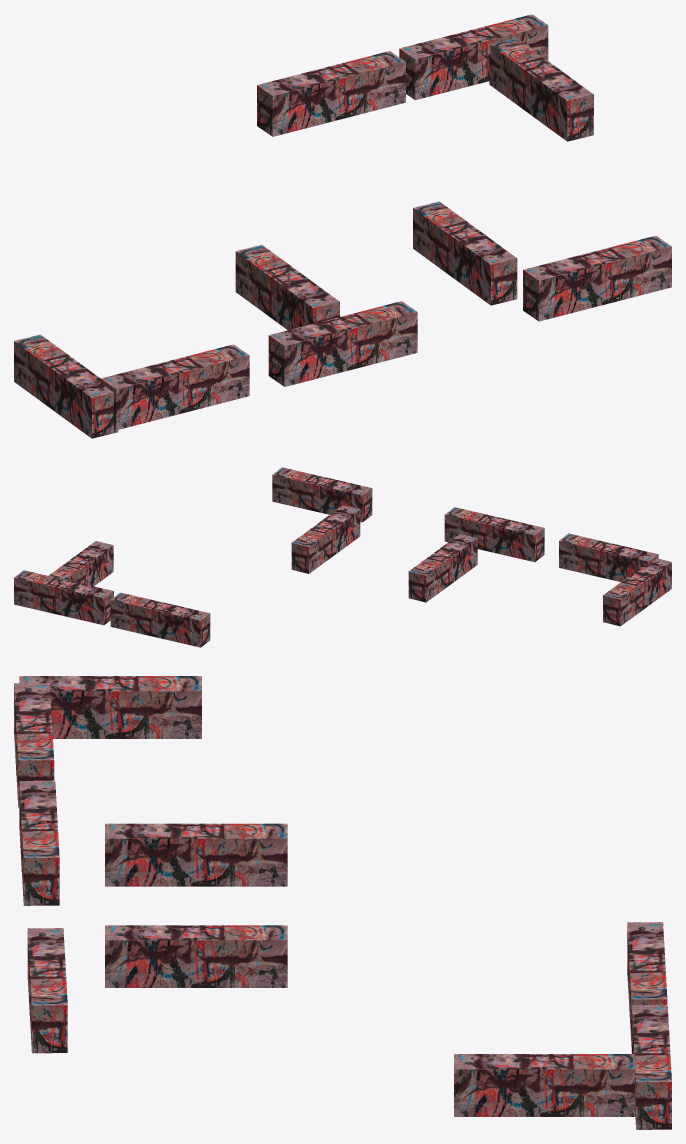
The model's file is decor1.obj.
The picture shows the model from 3 angles, top to bottom: view 1: azimuth 30°, elevation 25°; view 2: azimuth 150°, elevation 25°; view 3: azimuth 270°, elevation 25°; orthographic projection. The views are drawn at different scales.
Visible parts, largest first — view 1: Cube.032, Cube.033, Cube.037, Cube.034, Cube.038, Cube.036, Cube.039, Cube.040, Cube.035; view 2: Cube.037, Cube.038, Cube.032, Cube.033, Cube.034, Cube.036, Cube.035, Cube.040, Cube.039; view 3: Cube.035, Cube.036, Cube.039, Cube.040, Cube.032, Cube.033, Cube.038, Cube.034, Cube.037.
Boxes of the visible parts, <box> form: Cube.032: <box>268,301,417,386</box>; Cube.033: <box>523,235,671,321</box>; Cube.037: <box>257,51,405,136</box>; Cube.034: <box>100,344,249,430</box>; Cube.038: <box>399,14,548,100</box>; Cube.036: <box>413,201,517,305</box>; Cube.039: <box>489,38,593,141</box>; Cube.040: <box>14,334,118,438</box>; Cube.035: <box>235,245,339,330</box>; Cube.037: <box>110,592,210,647</box>; Cube.038: <box>14,570,113,625</box>; Cube.032: <box>444,507,544,562</box>; Cube.033: <box>272,467,372,522</box>; Cube.034: <box>559,533,658,581</box>; Cube.036: <box>291,505,360,573</box>; Cube.035: <box>408,534,477,602</box>; Cube.040: <box>603,558,671,626</box>; Cube.039: <box>48,541,113,586</box>; Cube.035: <box>105,823,287,886</box>; Cube.036: <box>105,925,287,987</box>; Cube.039: <box>454,1054,635,1116</box>; Cube.040: <box>19,676,201,738</box>; Cube.032: <box>19,780,59,905</box>; Cube.033: <box>27,928,67,1053</box>; Cube.038: <box>631,1004,671,1129</box>; Cube.034: <box>14,683,54,808</box>; Cube.037: <box>627,922,667,1046</box>.
Bounding box in the file's own units: 40767 × 2454 × 27546.
1 material, 1 textured.
